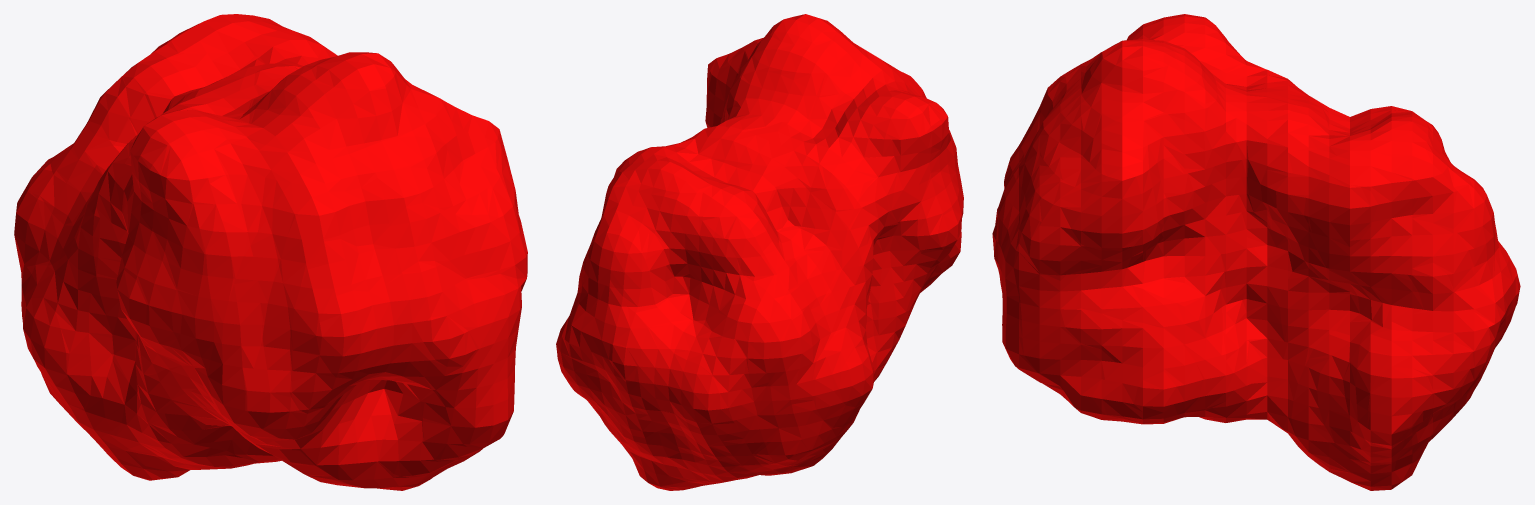
File: cmoA_coarse.dae
3 renders of one model, left to right at view 1: azimuth 30°, elevation 25°; view 2: azimuth 150°, elevation 25°; view 3: azimuth 270°, elevation 25°, orthographic. The views are drawn at different scales.
Parts seen in each view (by area): view 1: cmoA; view 2: cmoA; view 3: cmoA.
Part boxes in pixels (x1,y1,x2,y2): cmoA: [14, 14, 527, 490]; cmoA: [556, 14, 963, 490]; cmoA: [992, 14, 1520, 490].
Size of the model in its own units: 48.46 by 63.61 by 70.97.
